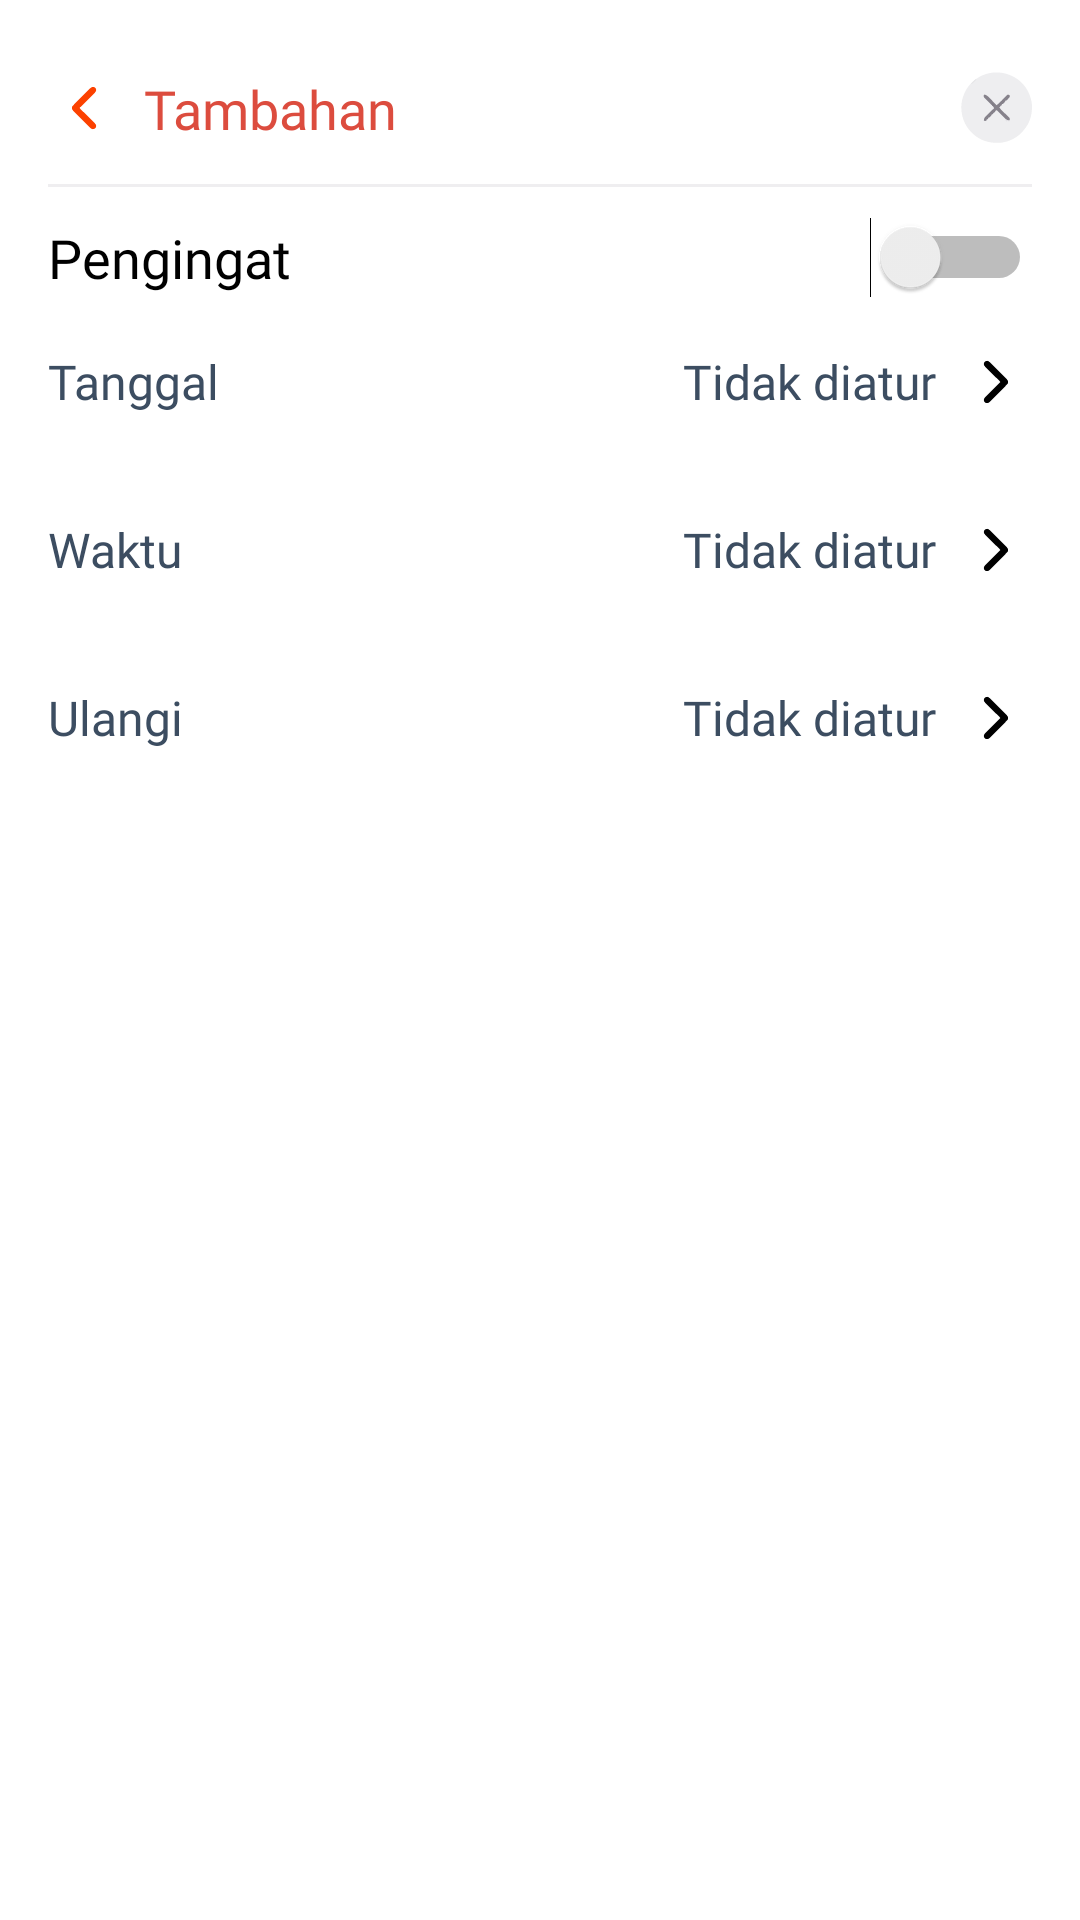

Icon click points for this 1080px×1920px phone screenshot, format [x,y]:
arrow left: [84,108]
arrow right: [996,382], [996,550], [996,718]
close: [996,108]
